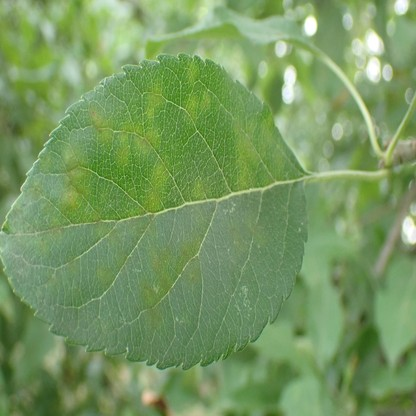scab: (233, 120, 262, 187), (137, 164, 169, 218), (177, 231, 206, 287), (91, 219, 126, 262), (149, 245, 175, 293), (140, 285, 162, 331), (63, 148, 90, 183), (130, 127, 159, 156), (59, 184, 90, 208), (25, 226, 48, 253), (258, 114, 276, 148), (146, 81, 164, 115), (247, 215, 266, 247), (91, 112, 110, 141), (132, 219, 154, 243), (45, 214, 64, 241), (114, 130, 129, 163), (97, 265, 117, 289), (182, 99, 197, 128), (65, 256, 79, 284), (191, 176, 206, 201), (229, 229, 244, 252), (27, 178, 44, 198), (186, 62, 200, 84), (46, 267, 57, 290), (200, 95, 212, 114), (272, 153, 285, 169), (41, 151, 51, 171)
